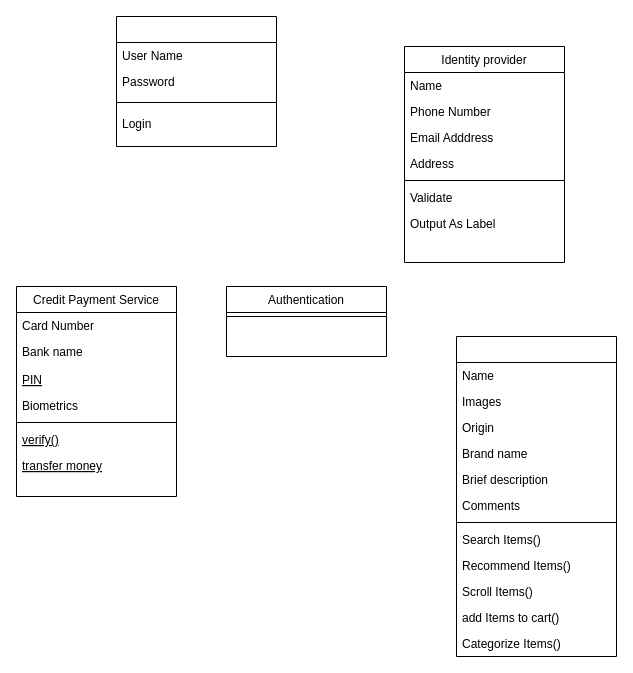
This 633x673 diagram has some shape labels left out. The box of each missing label's shape, as (x1, y1, x2, y2) in pixels:
Item view: (456, 336, 616, 656)
Web customer: (116, 16, 276, 146)
